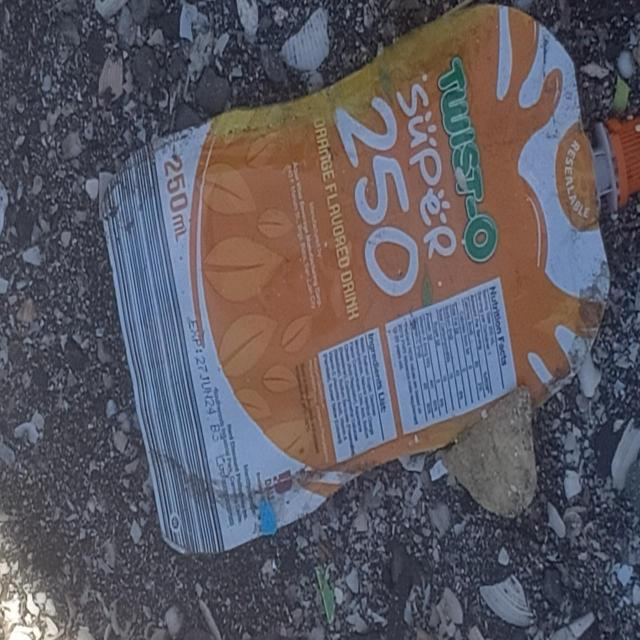plastic_waste: (97, 1, 640, 559)
